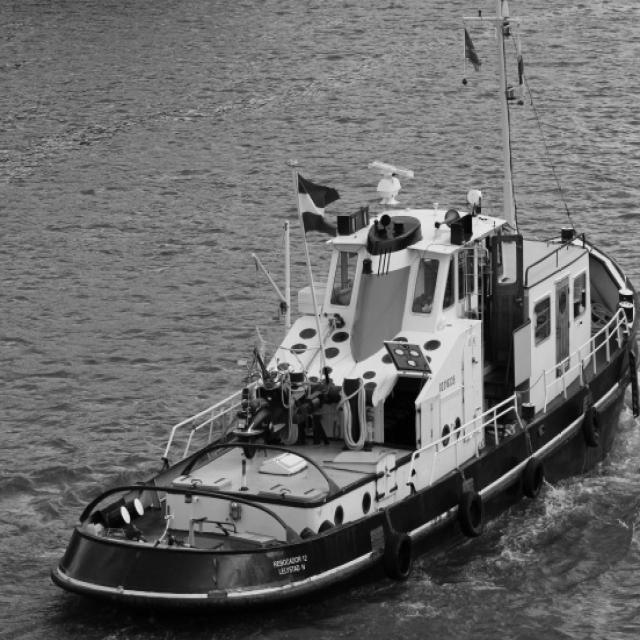tugboat: (39, 1, 640, 640)
